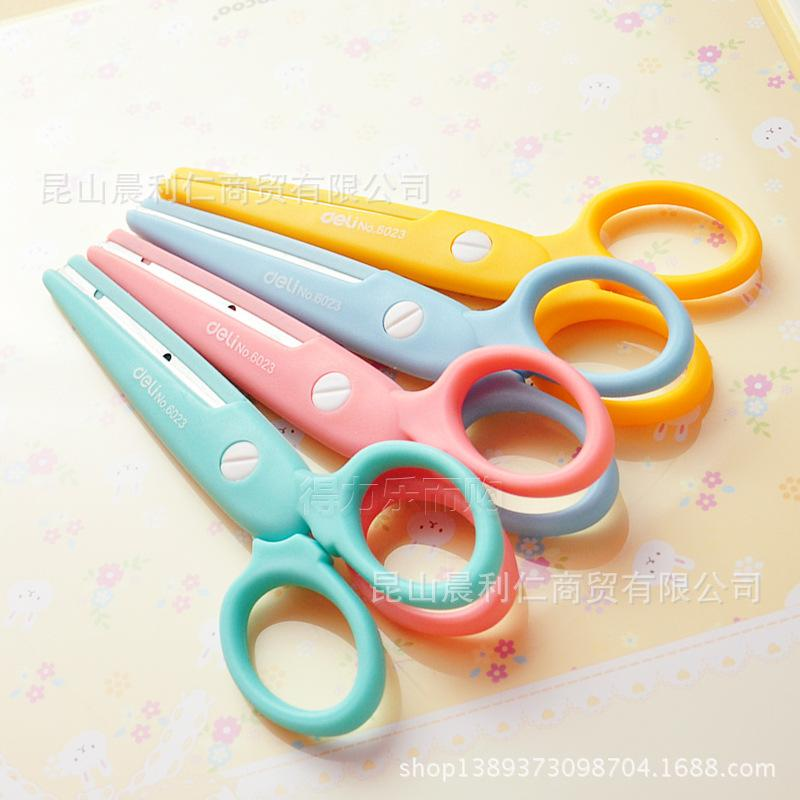scissor: (53, 107, 739, 717)
